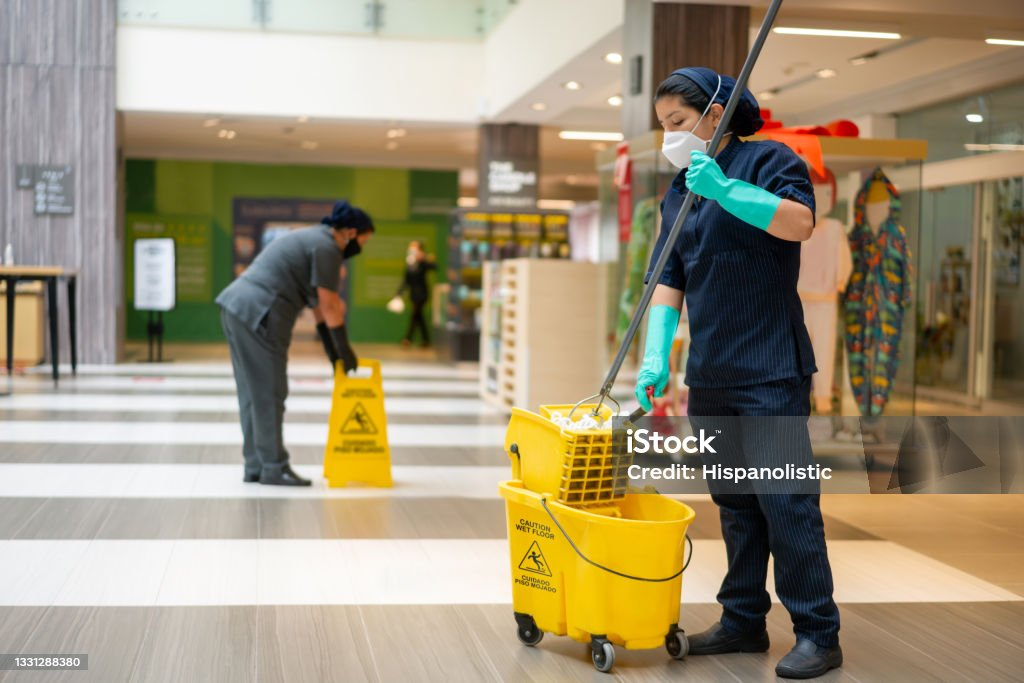wet caution sign: (316, 355, 399, 500)
